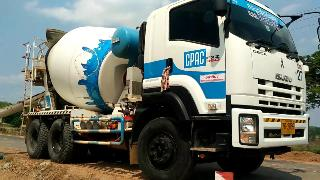cement_mixer_truck: (23, 1, 309, 175)
